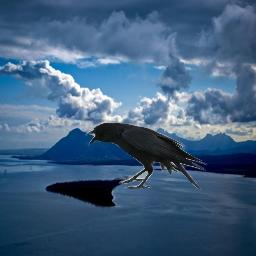Crow: (85, 122, 208, 190)
